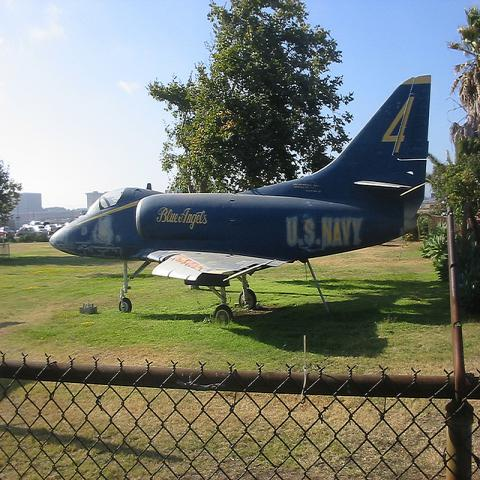car: (0, 226, 15, 243), (35, 225, 48, 235), (16, 228, 30, 236), (21, 227, 35, 234), (45, 224, 56, 232), (30, 221, 38, 226)
